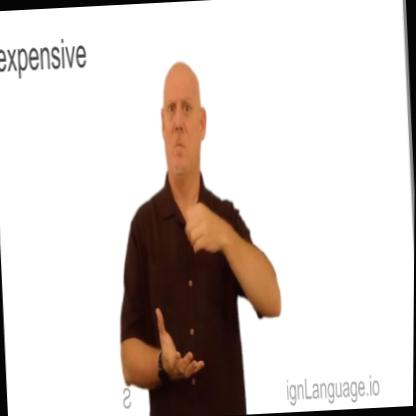Expensive: (104, 51, 290, 416)
